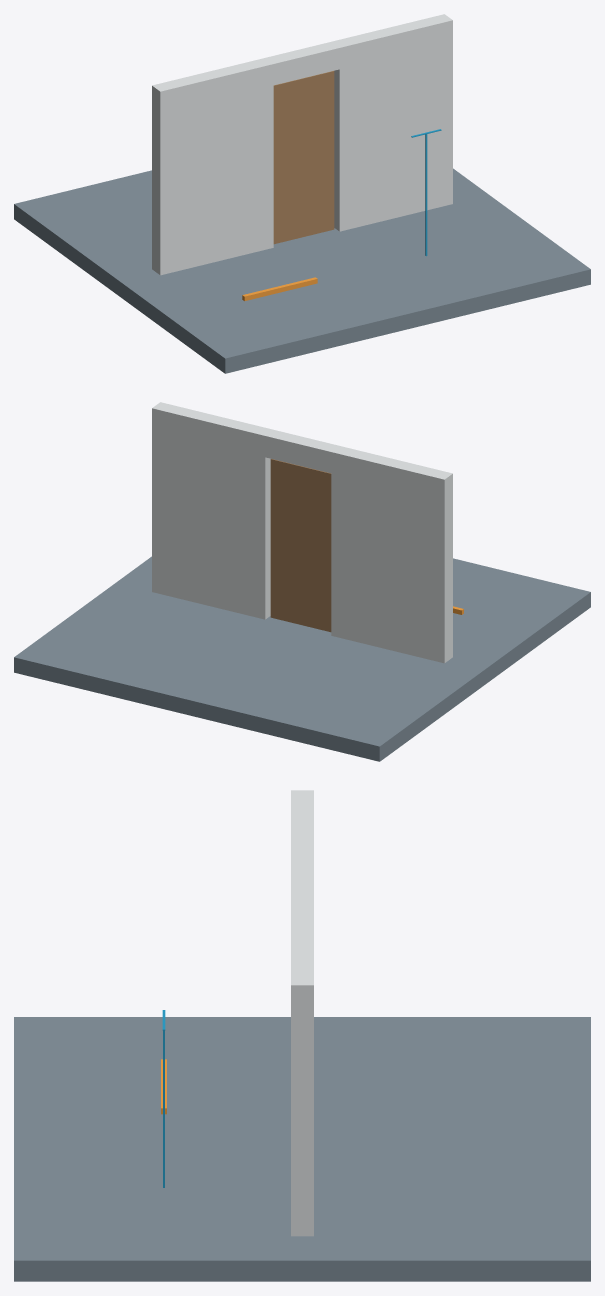
The model's file is t7-prueba.glb.
The picture shows the model from 3 angles, top to bottom: view 1: azimuth 30°, elevation 25°; view 2: azimuth 150°, elevation 25°; view 3: azimuth 270°, elevation 25°; orthographic projection. The views are drawn at different scales.
Visible parts, largest first — view 1: ProofFloor, ProofWallLeft, ProofWallRight, ProofDoor, ProofLintel, ProofRuler1m; view 2: ProofFloor, ProofWallLeft, ProofWallRight, ProofDoor, ProofLintel; view 3: ProofFloor, ProofWallRight, ProofWallLeft, ProofLintel.
Boxes of the visible parts, x1,y1,x2,y2 form: ProofFloor: (14,168,590,373); ProofWallLeft: (152,58,273,275); ProofWallRight: (331,14,452,231); ProofDoor: (273,71,334,244); ProofLintel: (265,42,339,85); ProofRuler1m: (242,277,317,301); ProofFloor: (14,556,590,761); ProofWallLeft: (331,446,452,663); ProofWallRight: (152,402,273,619); ProofDoor: (270,459,331,632); ProofLintel: (265,430,339,473); ProofFloor: (14,1017,590,1281); ProofWallRight: (291,909,313,1236); ProofWallLeft: (291,790,313,865); ProofLintel: (291,866,313,909).
Size of the model in its own units: 5 by 2.6 by 5.
